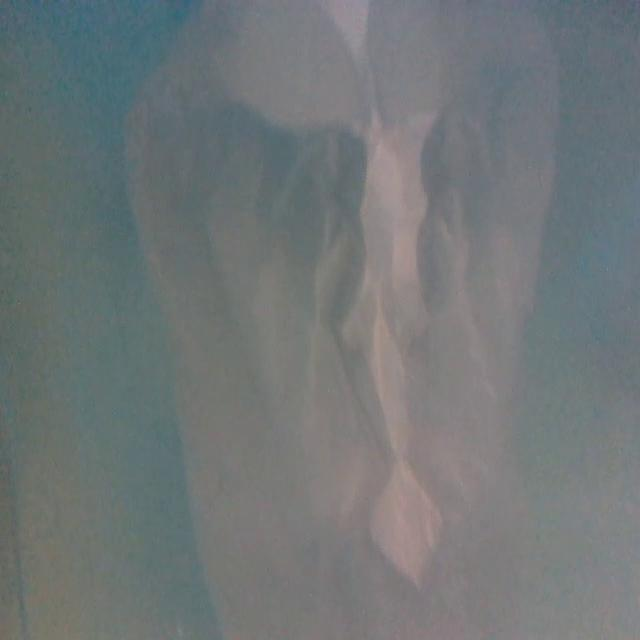plastic bags: (126, 2, 562, 640)
